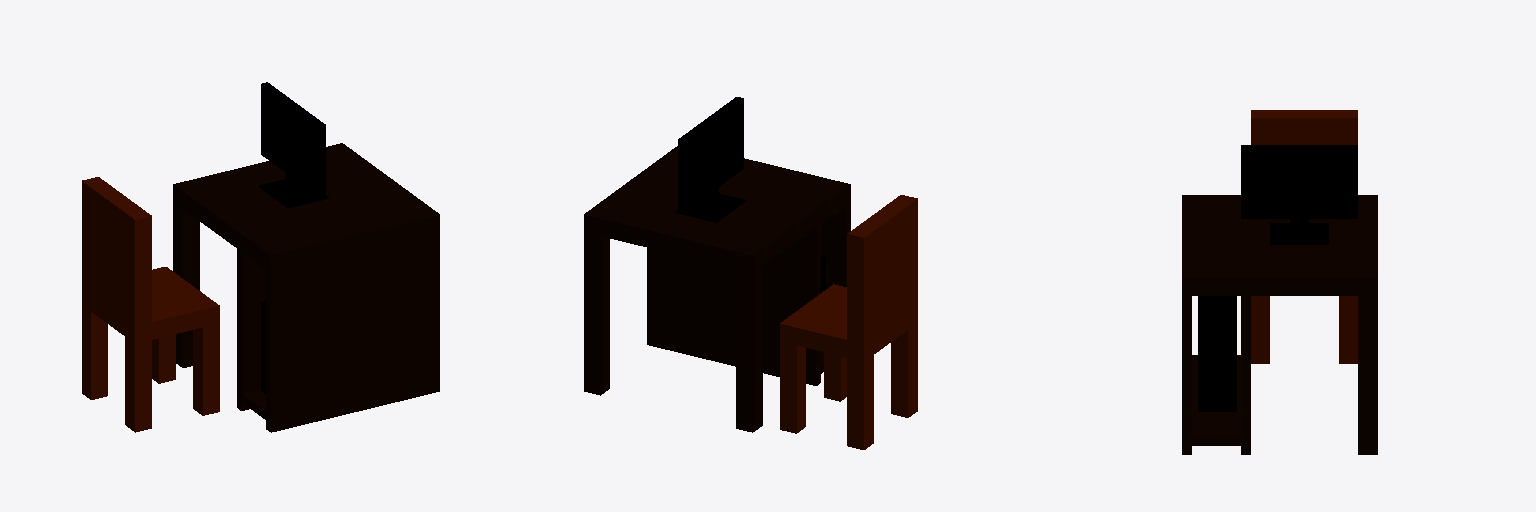
File: GraphicTablet.obj
3 views of the same model, side by side, from view 1: azimuth 30°, elevation 25°; view 2: azimuth 150°, elevation 25°; view 3: azimuth 270°, elevation 25° (orthographic).
Parts seen in each view (by area): view 1: Table, Chair, Screen, Monitor; view 2: Table, Chair, Screen, Monitor; view 3: Table, Monitor, Chair, PC.
Boxes of the visible parts, x1,y1,x2,y2 form: Table: [173, 143, 439, 432]; Chair: [82, 177, 219, 432]; Screen: [261, 89, 317, 192]; Monitor: [259, 82, 328, 208]; Table: [584, 146, 850, 432]; Chair: [780, 195, 917, 449]; Screen: [687, 103, 742, 206]; Monitor: [676, 97, 745, 222]; Table: [1182, 195, 1377, 454]; Monitor: [1241, 145, 1357, 244]; Chair: [1251, 110, 1357, 363]; PC: [1198, 296, 1236, 411].
Size of the model in its own units: 1.6 by 1.5 by 1.